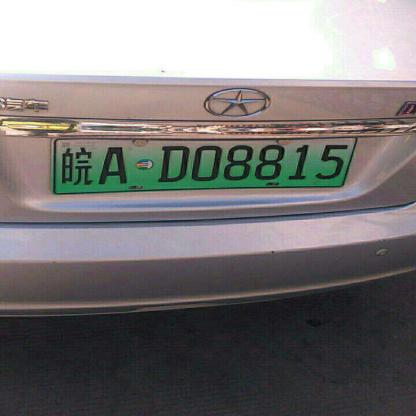lp: (57, 138, 342, 192)
